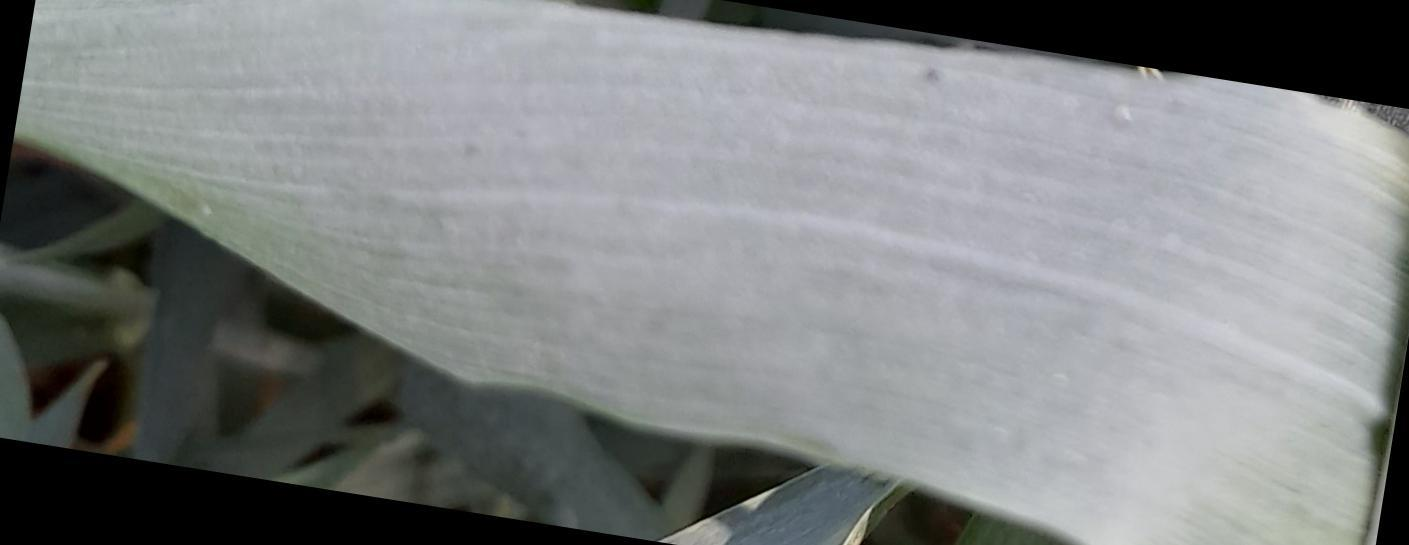Wheat: (609, 58, 1023, 401), (1035, 116, 1365, 520), (53, 0, 491, 150), (505, 15, 604, 378), (283, 170, 498, 285)
